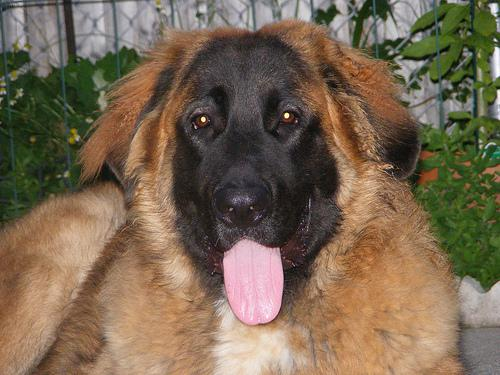dog-leonberger: (122, 27, 419, 326)
